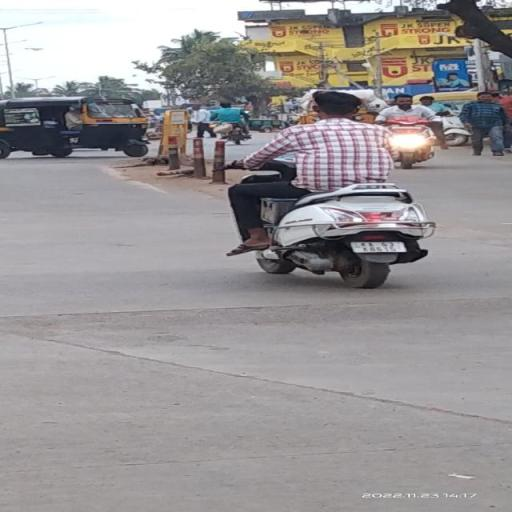bike: (216, 88, 442, 286)
numberplate: (352, 242, 408, 252)
withouthelmet: (313, 92, 357, 116)
